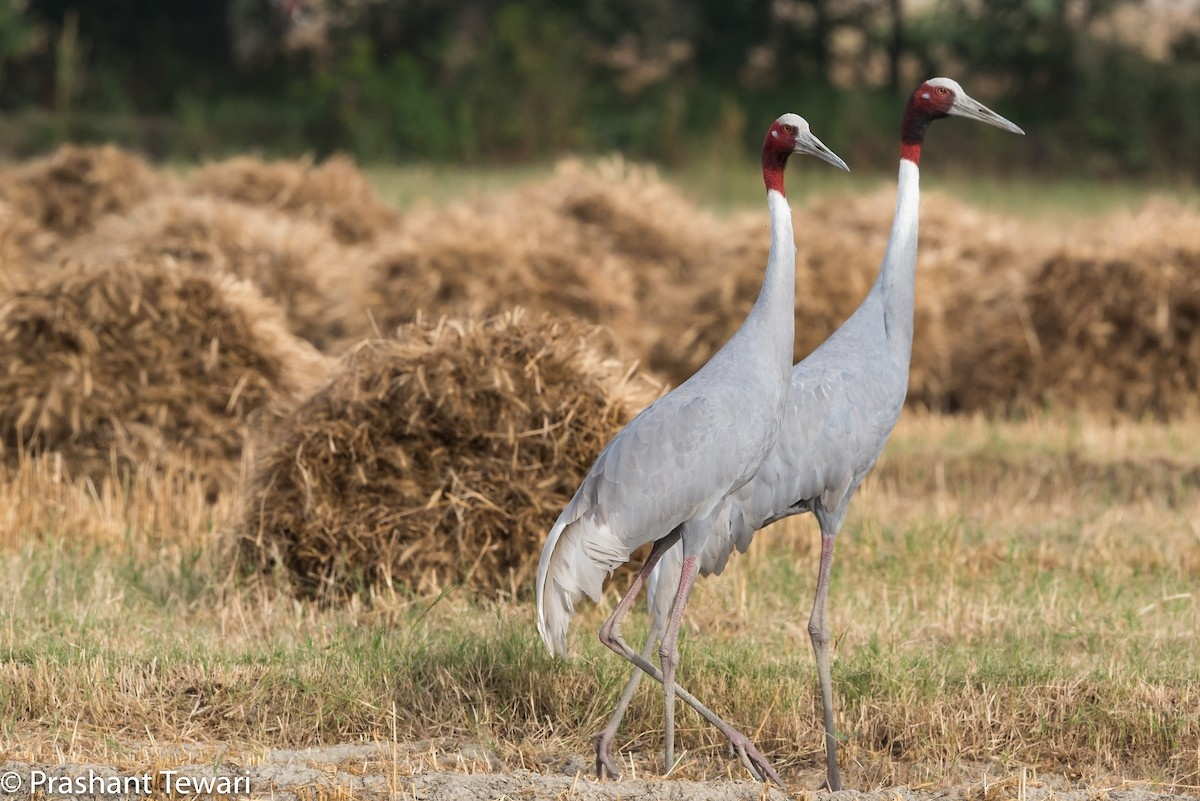crane: (529, 99, 853, 790), (843, 65, 1038, 370)
